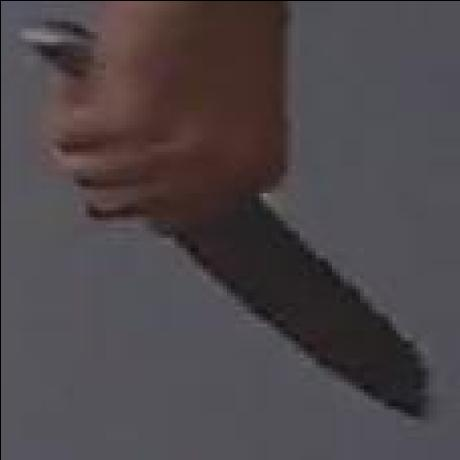weapon: (179, 196, 427, 436)
